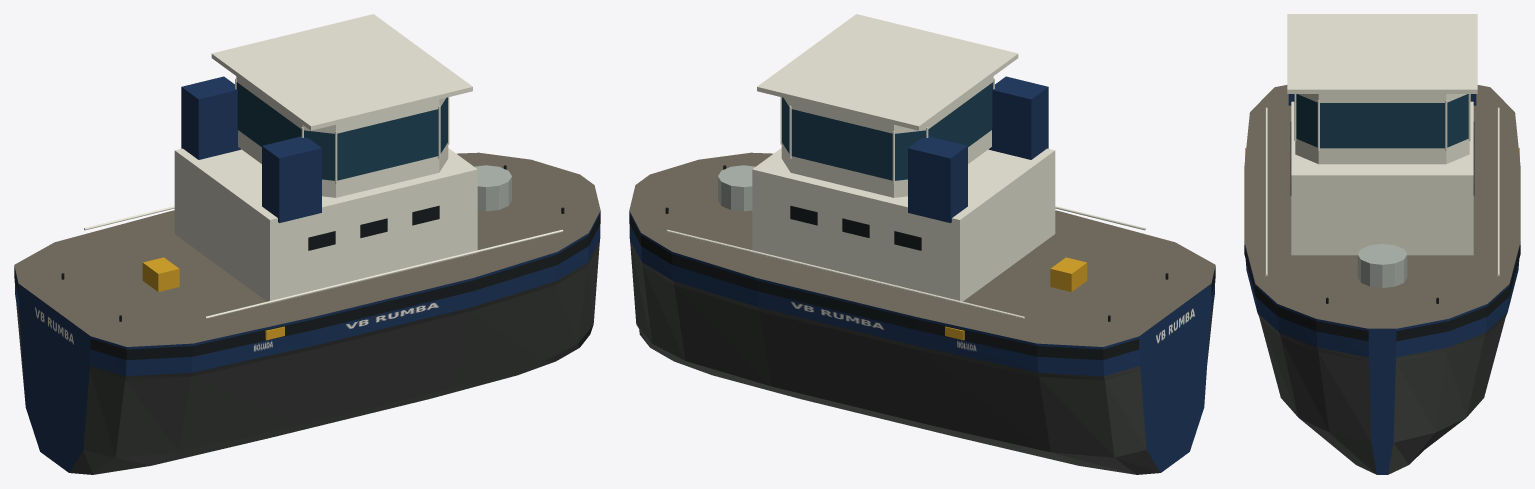
The model's file is ship.dae.
The picture shows the model from 3 angles, left to right: view 1: azimuth 30°, elevation 25°; view 2: azimuth 150°, elevation 25°; view 3: azimuth 270°, elevation 25°; orthographic projection. The views are drawn at different scales.
Parts seen in each view (by area): view 1: Ship; view 2: Ship; view 3: Ship.
Boxes of the visible parts, x1,y1,x2,y2 form: Ship: (14, 14, 600, 474); Ship: (629, 14, 1215, 474); Ship: (1244, 14, 1520, 474).
Bounding box in the file's own units: 27.59 × 12.93 × 15.94.
1 material, 1 textured.
